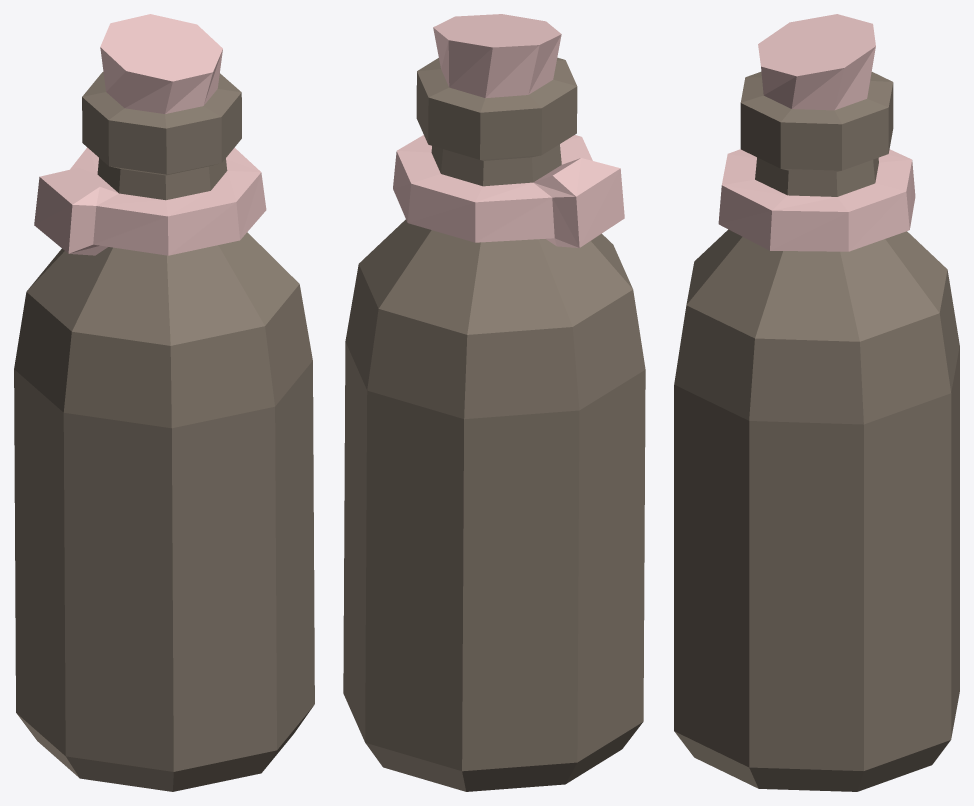
The model's file is SM_Item_Bottle_Attachment_01.glb.
The picture shows the model from 3 angles, left to right: view 1: azimuth 30°, elevation 25°; view 2: azimuth 150°, elevation 25°; view 3: azimuth 270°, elevation 25°; orthographic projection. The views are drawn at different scales.
Parts seen in each view (by area): view 1: SM_Item_Bottle_Attachment_01_00; view 2: SM_Item_Bottle_Attachment_01_00; view 3: SM_Item_Bottle_Attachment_01_00.
Boxes of the visible parts, box(x1,y1,x2,y2) form: SM_Item_Bottle_Attachment_01_00: box(14, 14, 314, 791); SM_Item_Bottle_Attachment_01_00: box(343, 14, 645, 791); SM_Item_Bottle_Attachment_01_00: box(674, 14, 959, 791).
Size of the model in its own units: 0.1232 by 0.3324 by 0.1222.
Materials: 1 (1 with a texture image).
